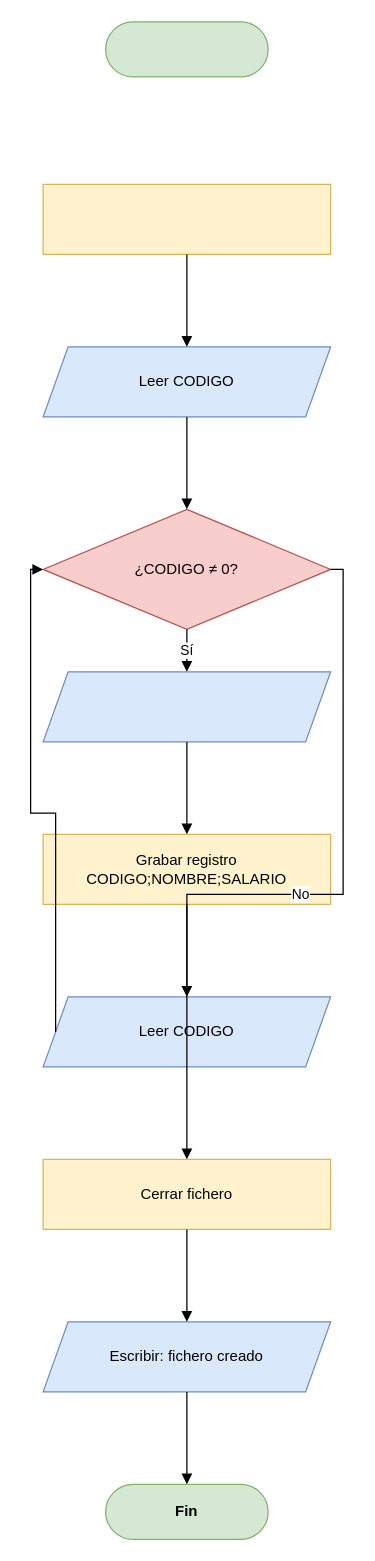
Some shapes in this 375 by 1561 pixel diagram are drawn without their labels. Each missing label, with the centre of its shape:
"Abrir fichero empleados.txt (para escritura)" goes at (x=186, y=218).
"Inicio" goes at (x=186, y=49).
"Leer NOMBRE, SALARIO" goes at (x=186, y=706).
